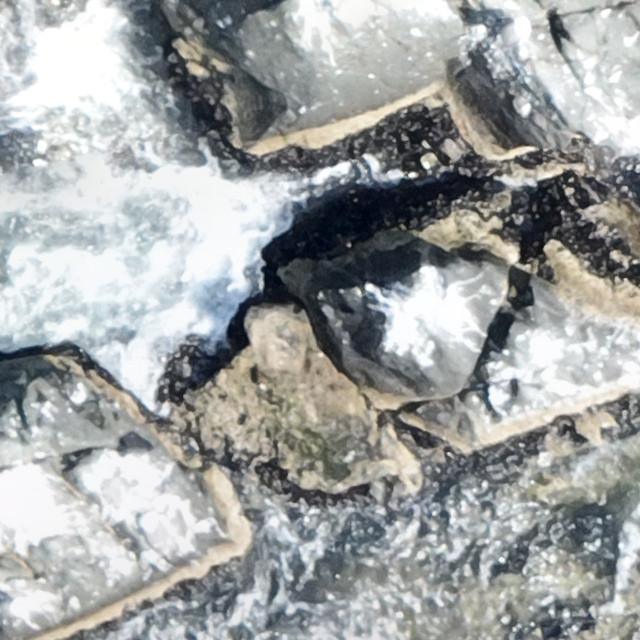umineko: (139, 511, 181, 566), (491, 17, 530, 50)
